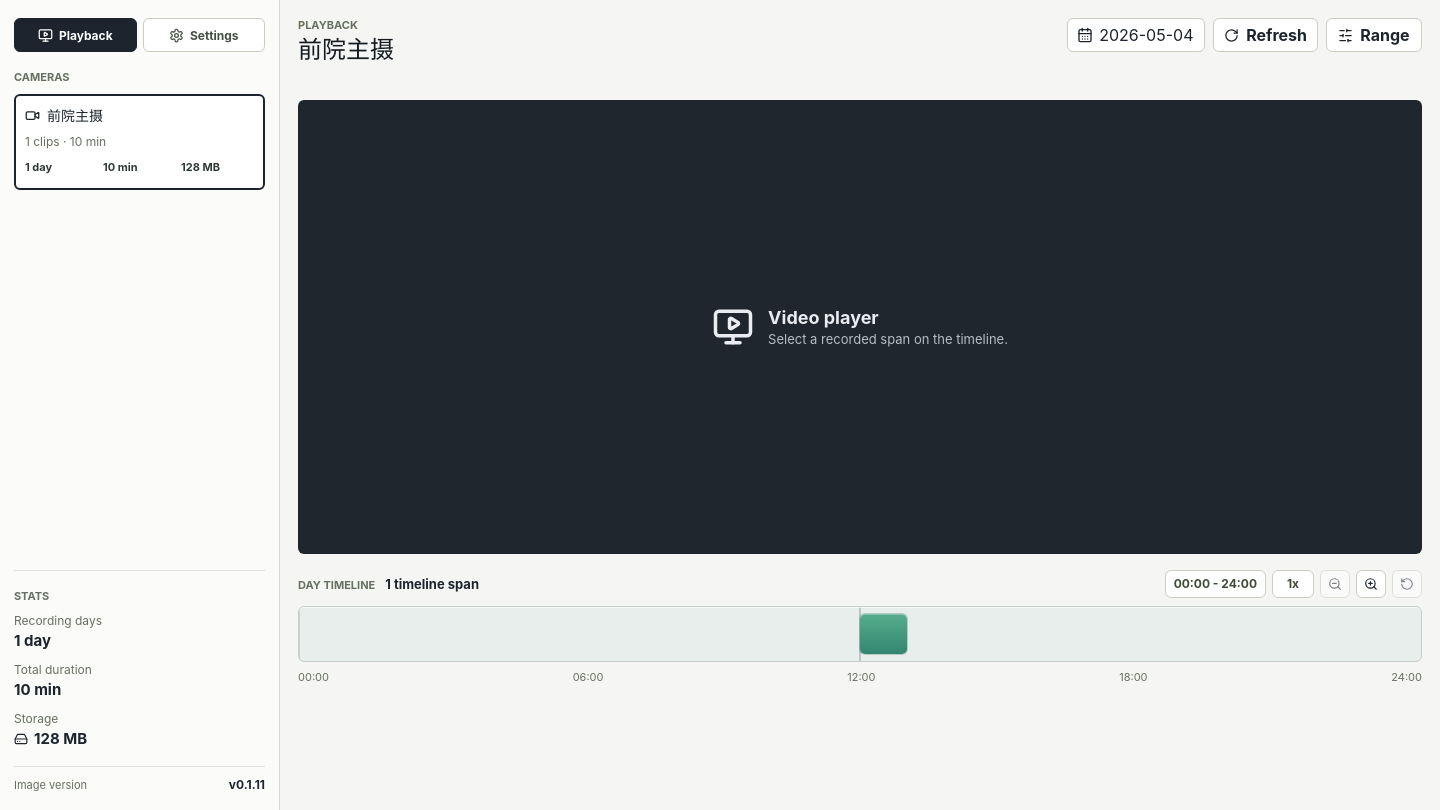
Test: App › does not render pending playback after refresh starts and then fails
Step 1. Click the button named "Recorded span 12:00 - 13:00" → [883, 634], box [860,614,907,654]
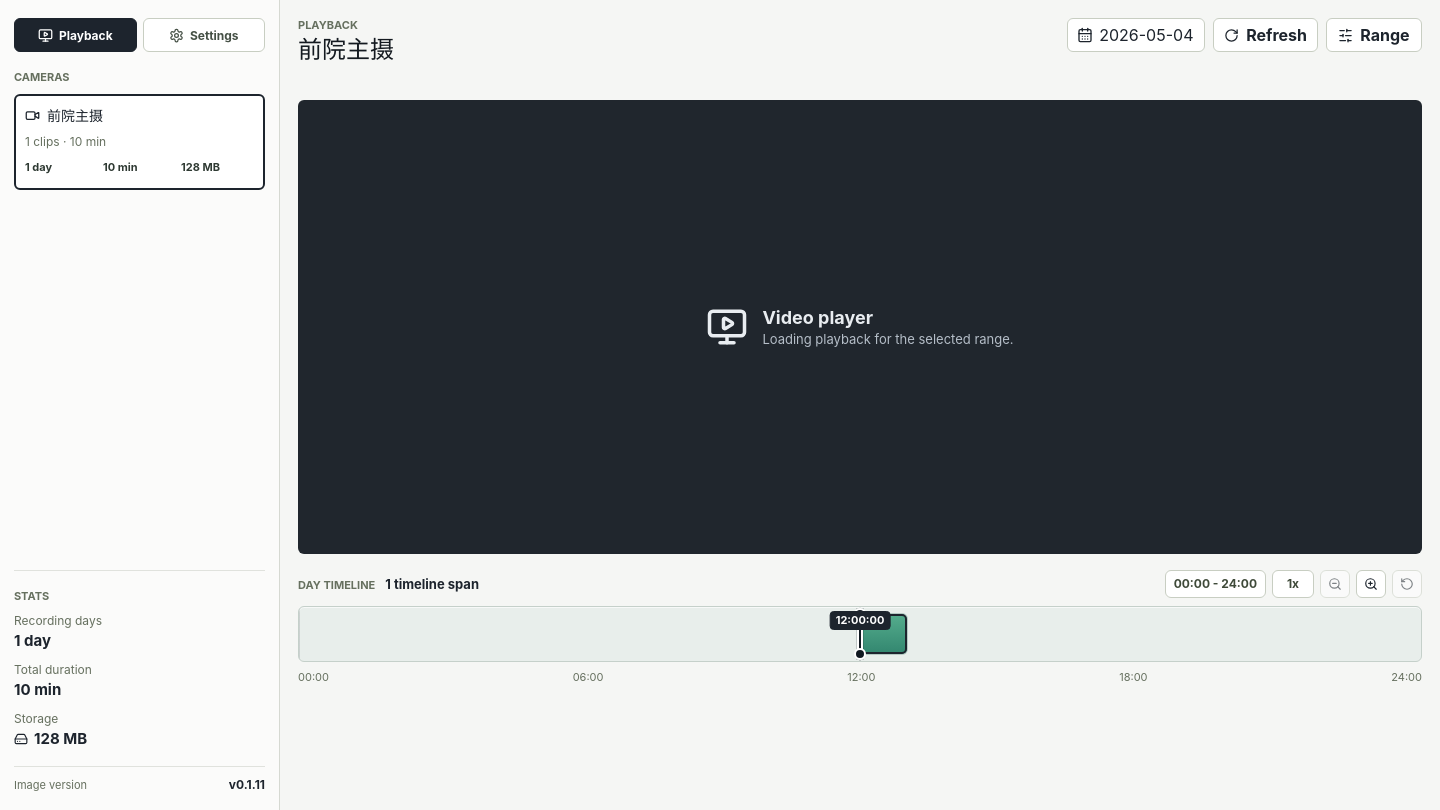
Step 2. Click the button "Refresh" → [1266, 35], box [1213,18,1318,52]
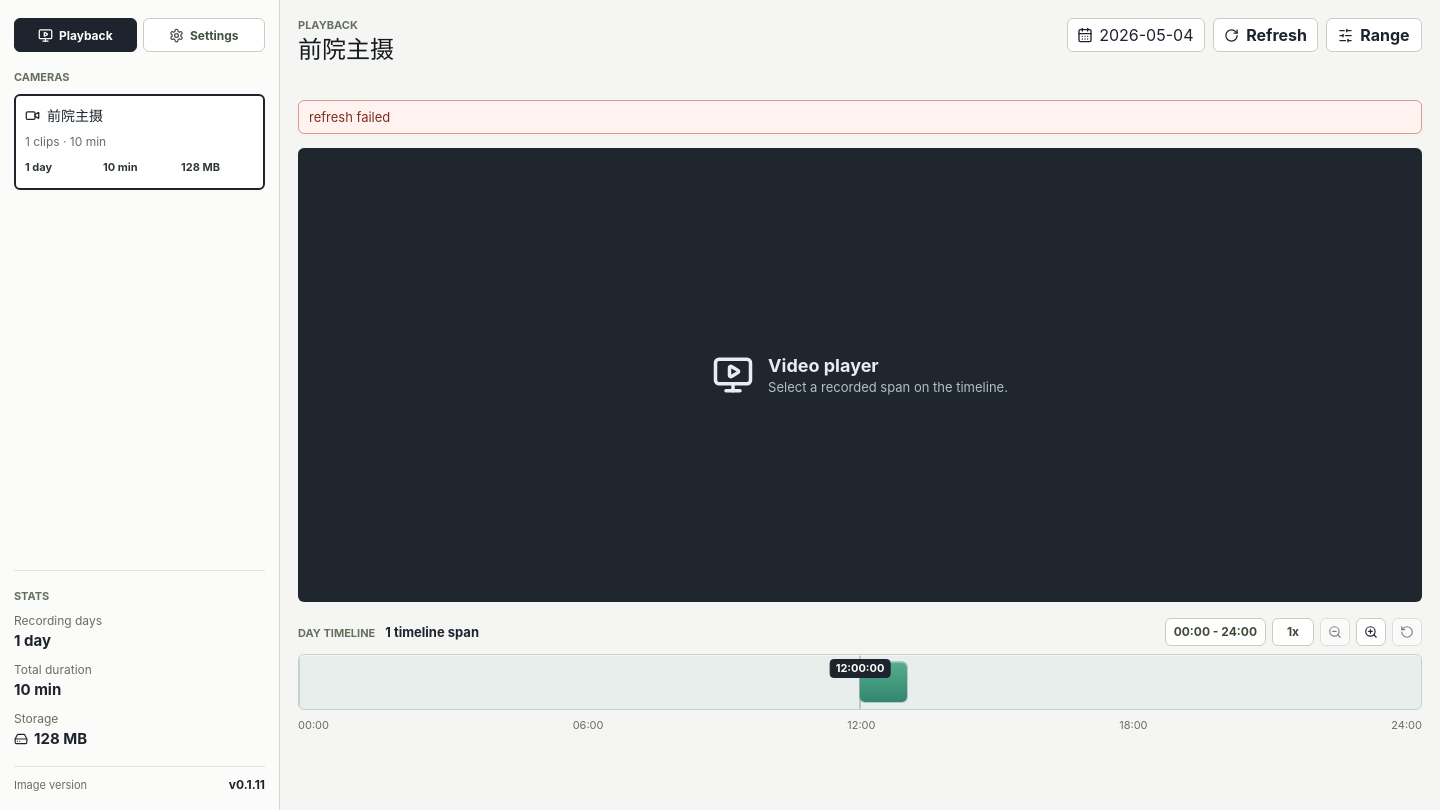
Check: the text "refresh failed" is shown, box [298,100,1422,134]
